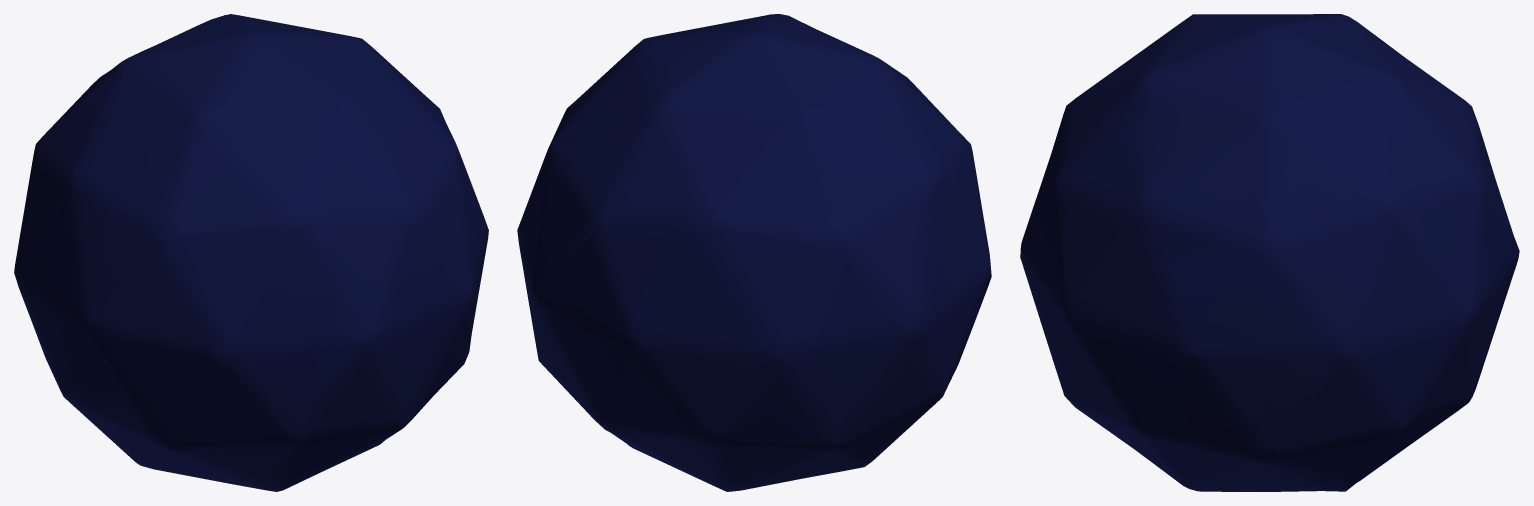
The model's file is gen3d-bowling-ball-lod0.glb.
3 renders of one model, left to right at view 1: azimuth 30°, elevation 25°; view 2: azimuth 150°, elevation 25°; view 3: azimuth 270°, elevation 25°, orthographic. The views are drawn at different scales.
Visible parts, largest first — view 1: part_0; view 2: part_0; view 3: part_0.
Boxes of the visible parts, x1=… form: part_0: x1=14, y1=14, x2=488, y2=491; part_0: x1=517, y1=14, x2=991, y2=491; part_0: x1=1020, y1=14, x2=1519, y2=491.
Size of the model in its own units: 0.9524 by 0.9943 by 0.9956.
